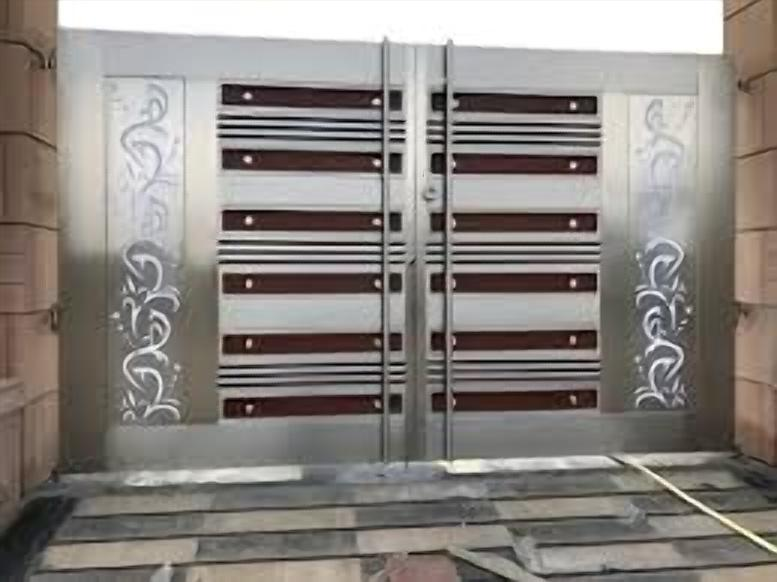Gate: (55, 24, 740, 473)
